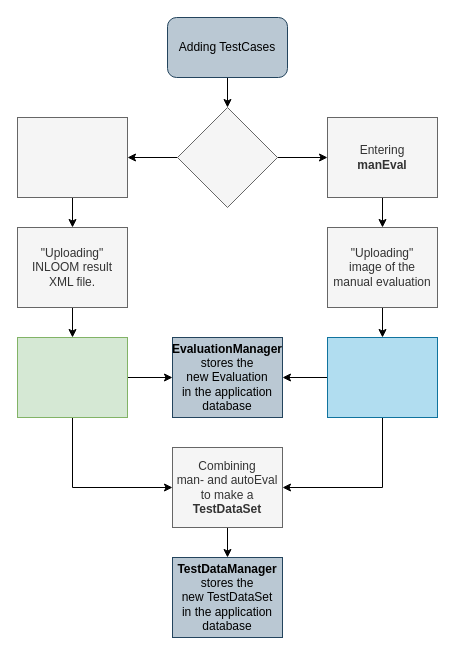
Some shapes in this 455 by 655 pixel diagram are drawn without their labels. The shapes that lost their labels are listed below. From the top down, each one's box as (x1, y1, x2, y2) in pixels, then its label:
(16, 116, 128, 198): Entering autoEval
(176, 106, 278, 208): Entering evaluation data
(16, 336, 128, 418): XMLAdapter transforms INLOOM result into an Evaluation
(326, 336, 438, 418): ManEvalWizard guides the instructor through entering required statistics
